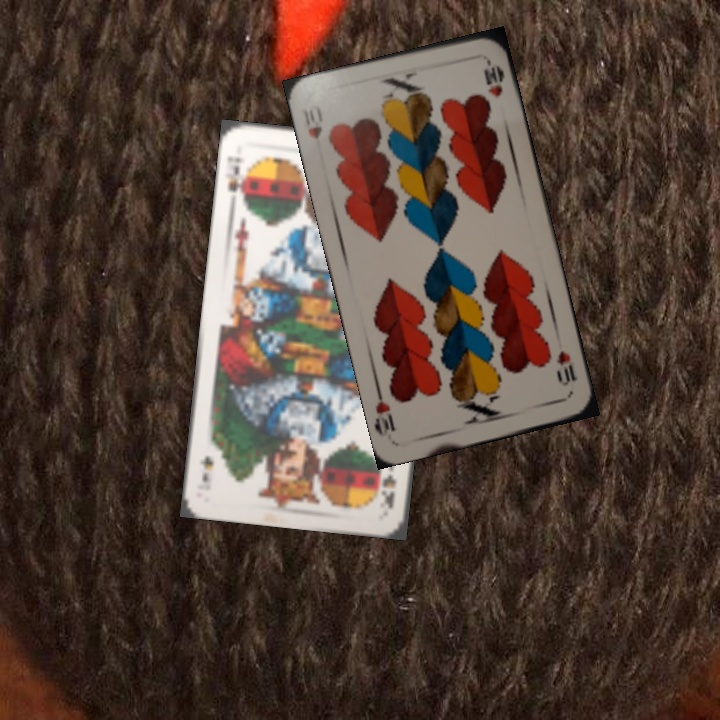H10: (552, 346, 579, 389), (300, 105, 325, 142)
SK: (223, 152, 250, 206), (378, 458, 399, 512)
